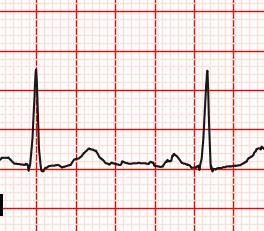LVH: (64, 144, 112, 170)
